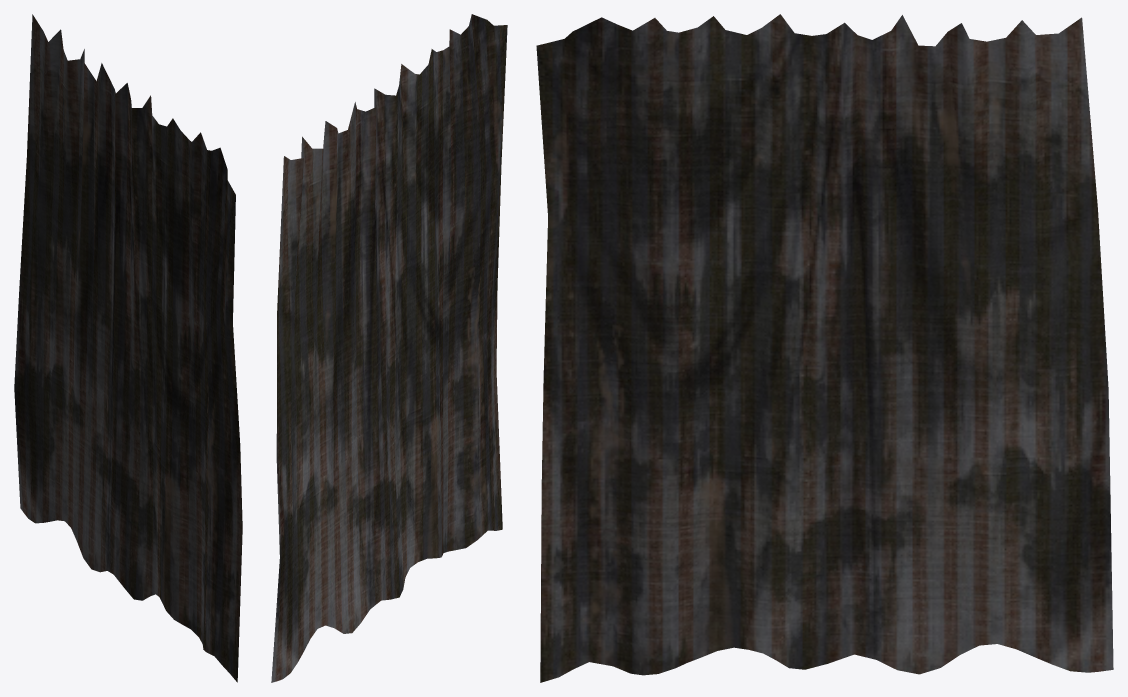
The model's file is CurtainOpen_01.FBX.
3 renders of one model, left to right at view 1: azimuth 30°, elevation 25°; view 2: azimuth 150°, elevation 25°; view 3: azimuth 270°, elevation 25°, orthographic. The views are drawn at different scales.
Parts seen in each view (by area): view 1: CurtainOpen_01; view 2: CurtainOpen_01; view 3: CurtainOpen_01.
Boxes of the visible parts, left/top/right/bottom form: CurtainOpen_01: left=14, top=14, right=242, bottom=682; CurtainOpen_01: left=271, top=14, right=507, bottom=682; CurtainOpen_01: left=536, top=14, right=1113, bottom=682.
Size of the model in its own units: 8.28 by 282 by 219.
